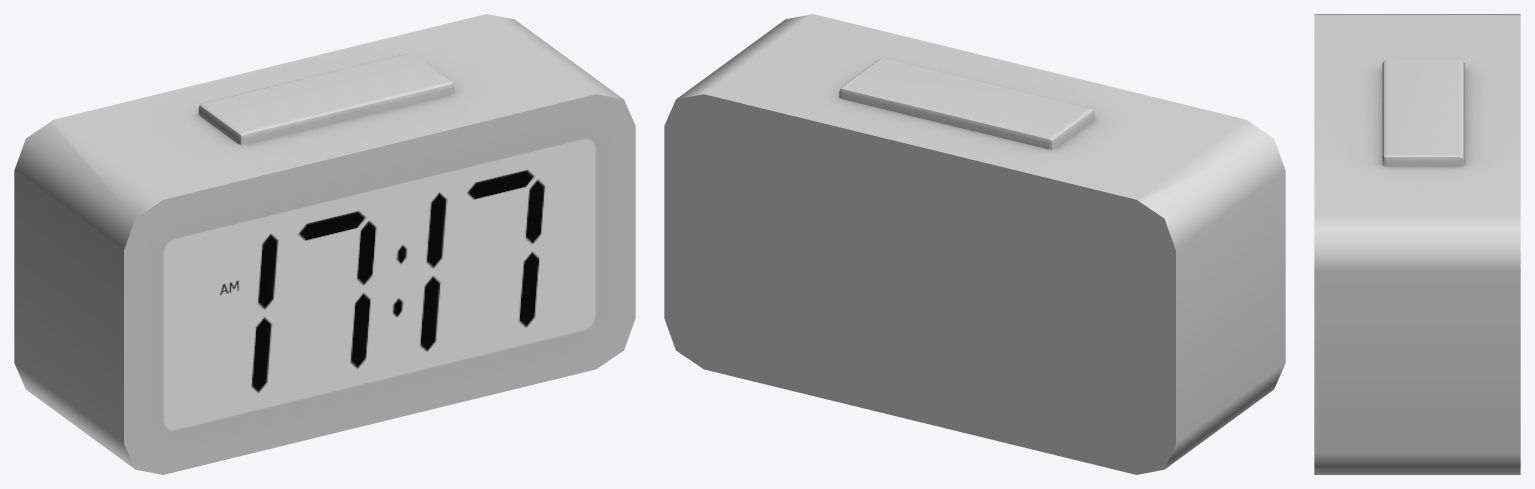
The model's file is Alarm_Clock.fbx.
3 renders of one model, left to right at view 1: azimuth 30°, elevation 25°; view 2: azimuth 150°, elevation 25°; view 3: azimuth 270°, elevation 25°, orthographic. The views are drawn at different scales.
Parts seen in each view (by area): view 1: alarm_clock_01, alarm_clock_02; view 2: alarm_clock_01, alarm_clock_02; view 3: alarm_clock_01, alarm_clock_02.
Part boxes in pixels (box(x1,y1,x2,y2)): alarm_clock_01: box(14, 14, 635, 474); alarm_clock_02: box(198, 53, 453, 144); alarm_clock_01: box(664, 14, 1285, 474); alarm_clock_02: box(839, 58, 1094, 149); alarm_clock_01: box(1314, 14, 1520, 474); alarm_clock_02: box(1382, 59, 1464, 166).
Bounding box in the file's own units: 1.7 × 0.9082 × 0.6303.
Materials: 1 (1 with a texture image).
